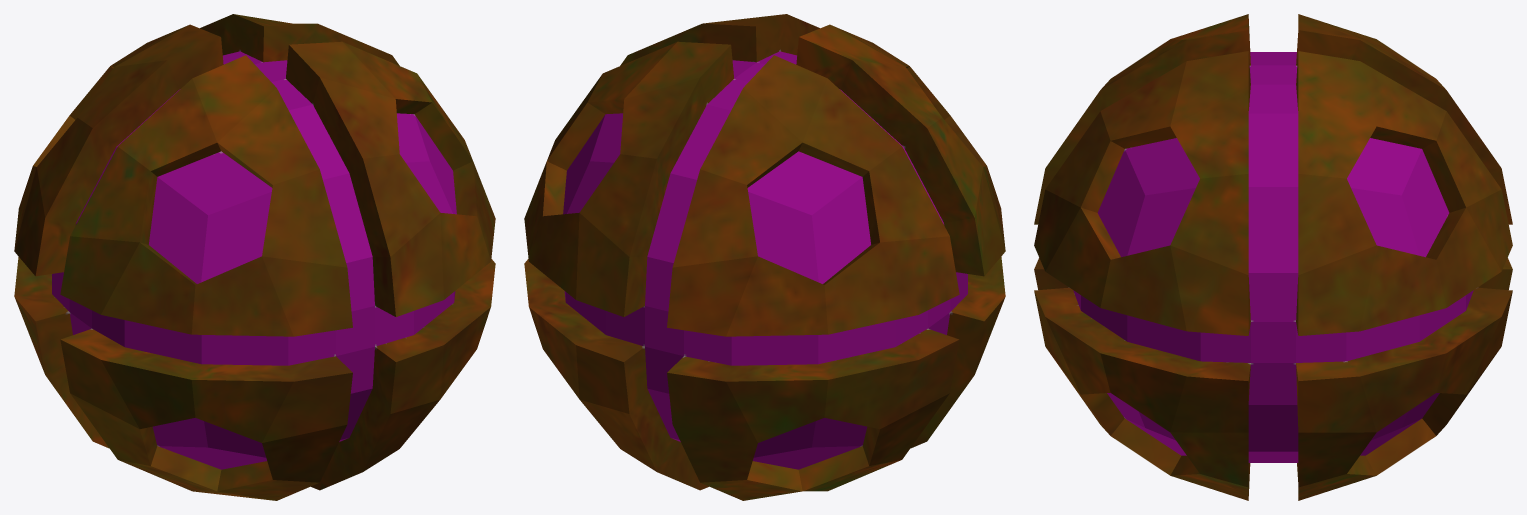
Rendered from Piedra_2.obj.
3 renders of one model, left to right at view 1: azimuth 30°, elevation 25°; view 2: azimuth 150°, elevation 25°; view 3: azimuth 270°, elevation 25°, orthographic.
Parts seen in each view (by area): view 1: Roundcube.001; view 2: Roundcube.001; view 3: Roundcube.001.
Part boxes in pixels (bbox=[...]): Roundcube.001: bbox=[14, 14, 495, 500]; Roundcube.001: bbox=[524, 14, 1005, 500]; Roundcube.001: bbox=[1034, 14, 1512, 500].
Bounding box in the file's own units: 4.62 × 4.62 × 4.62.
2 materials, 2 textured.
